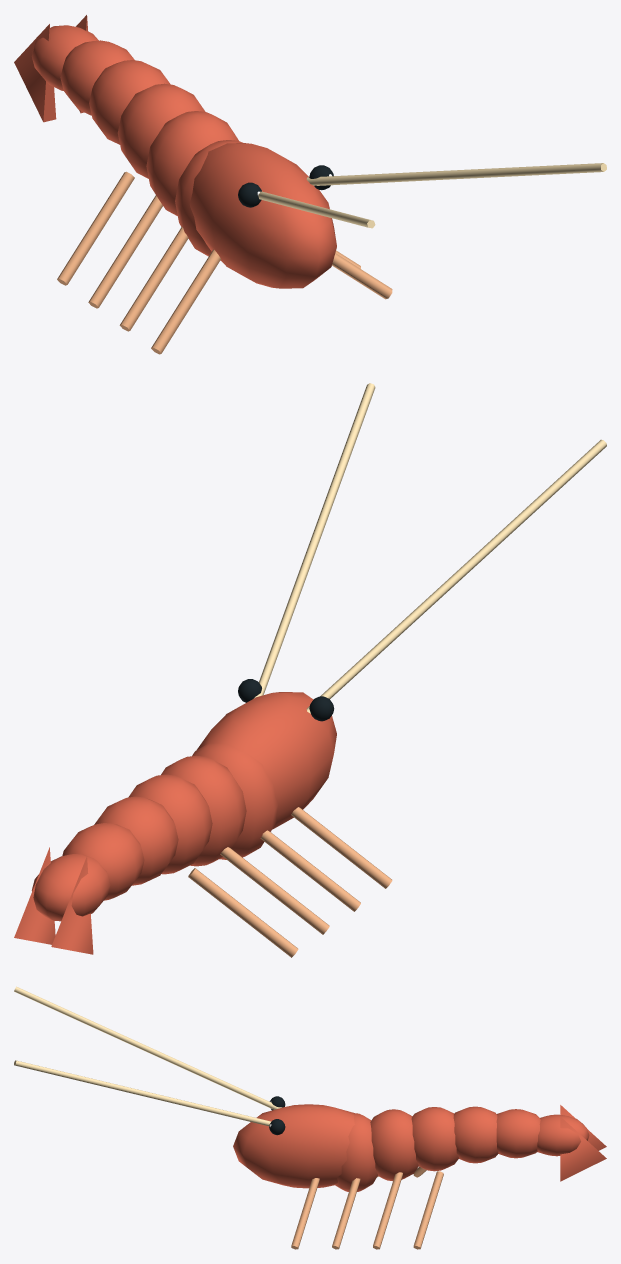
Rendered from shrimp.glb.
3 renders of one model, top to bottom at view 1: azimuth 30°, elevation 25°; view 2: azimuth 150°, elevation 25°; view 3: azimuth 270°, elevation 25°, orthographic. The views are drawn at different scales.
Visible parts, largest first — view 1: skin (×7), accent (×8), eye; view 2: skin (×7), accent (×8); view 3: skin (×7), accent (×7).
Part boxes in pixels (<box>): skin (×7): <box>31,25,336,288</box>; accent (×8): <box>14,24,606,354</box>; eye: <box>238,182,261,207</box>; skin (×7): <box>31,692,336,921</box>; accent (×8): <box>14,383,606,957</box>; skin (×7): <box>233,1104,589,1191</box>; accent (×7): <box>14,986,606,1249</box>.
Size of the model in its own units: 1.55 by 1.8 by 5.09.
